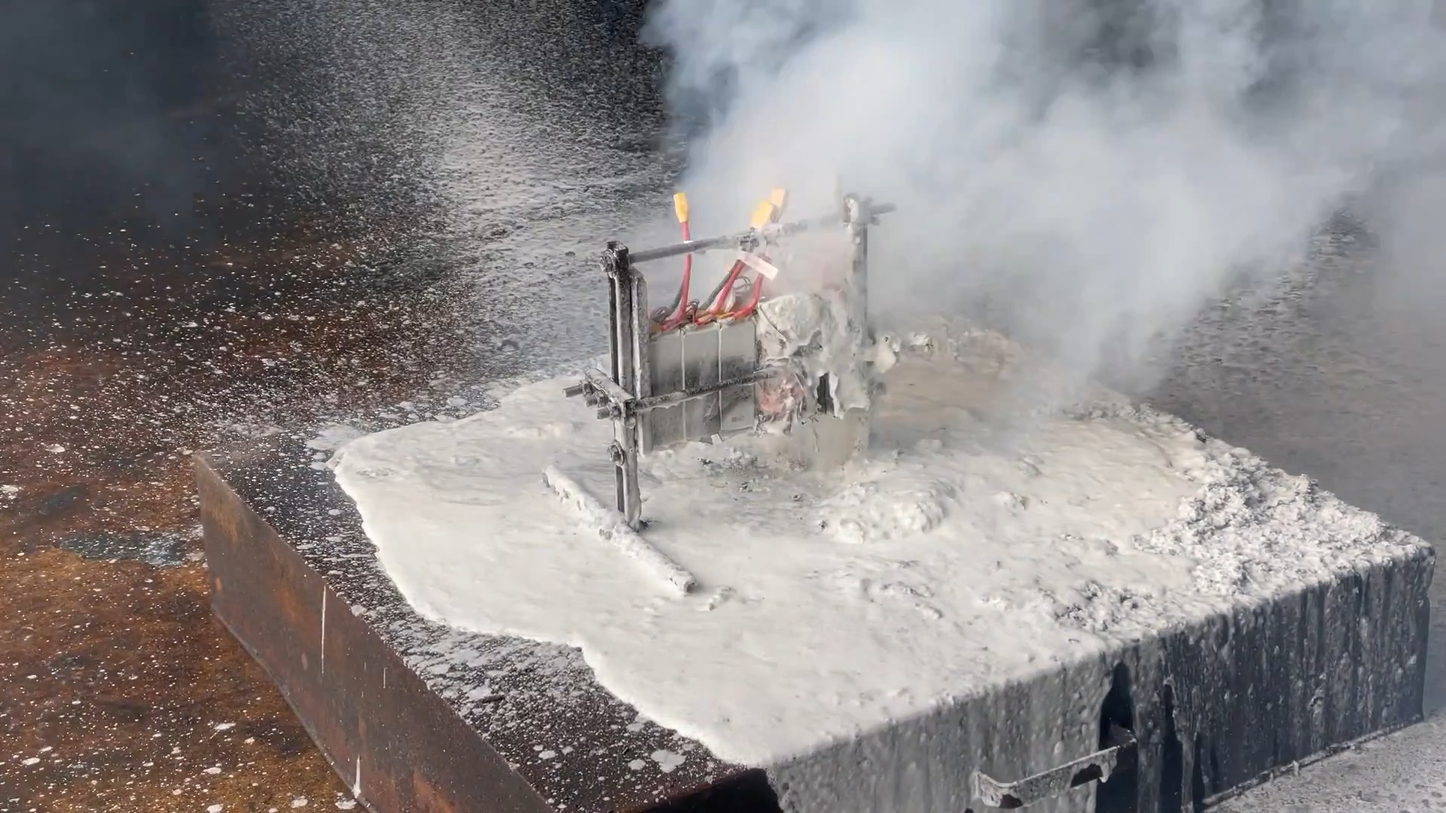smoke: (637, 0, 1445, 416)
